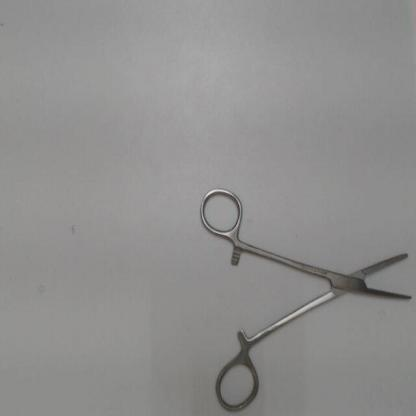Mayo Needle Holder: (194, 178, 416, 414)
